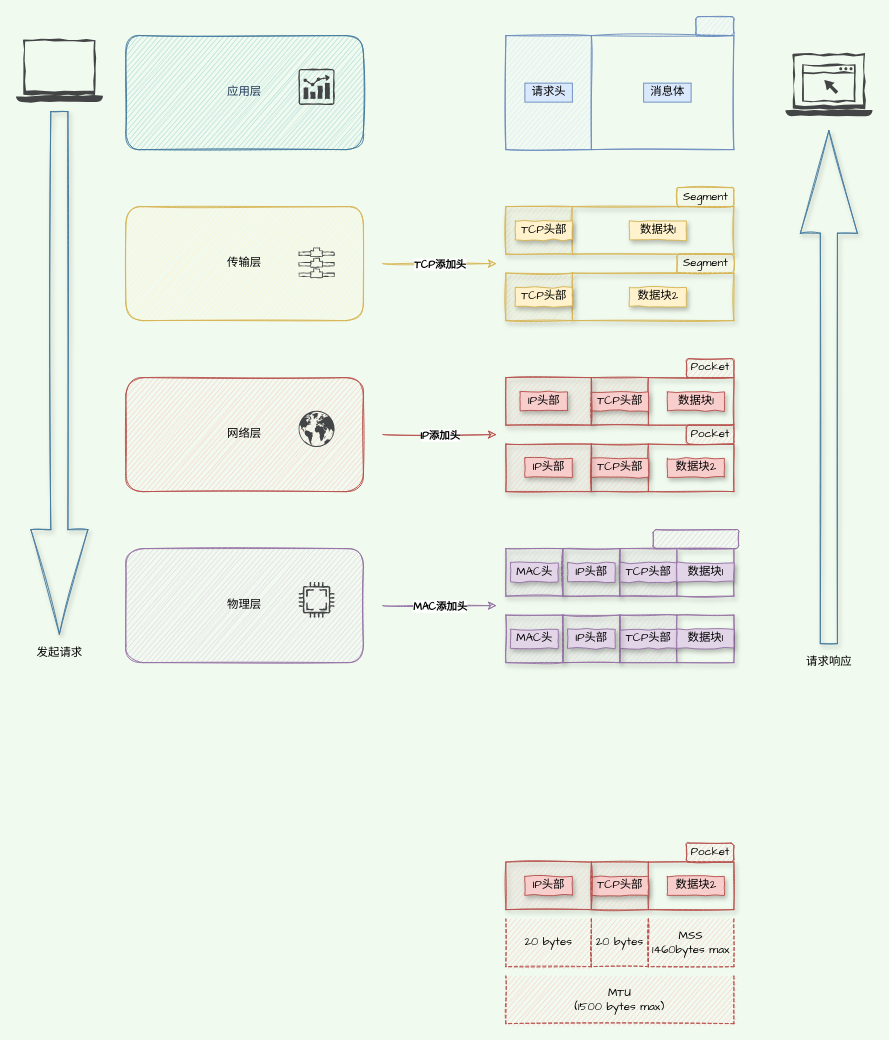
This 889x1040 diagram has some shape labels left out. Here are the shapes that lost their labels. From the top down, the centre of each, then its label:
At pixel 714 26: "Data".
At pixel 695 539: "Bits&Frames".
